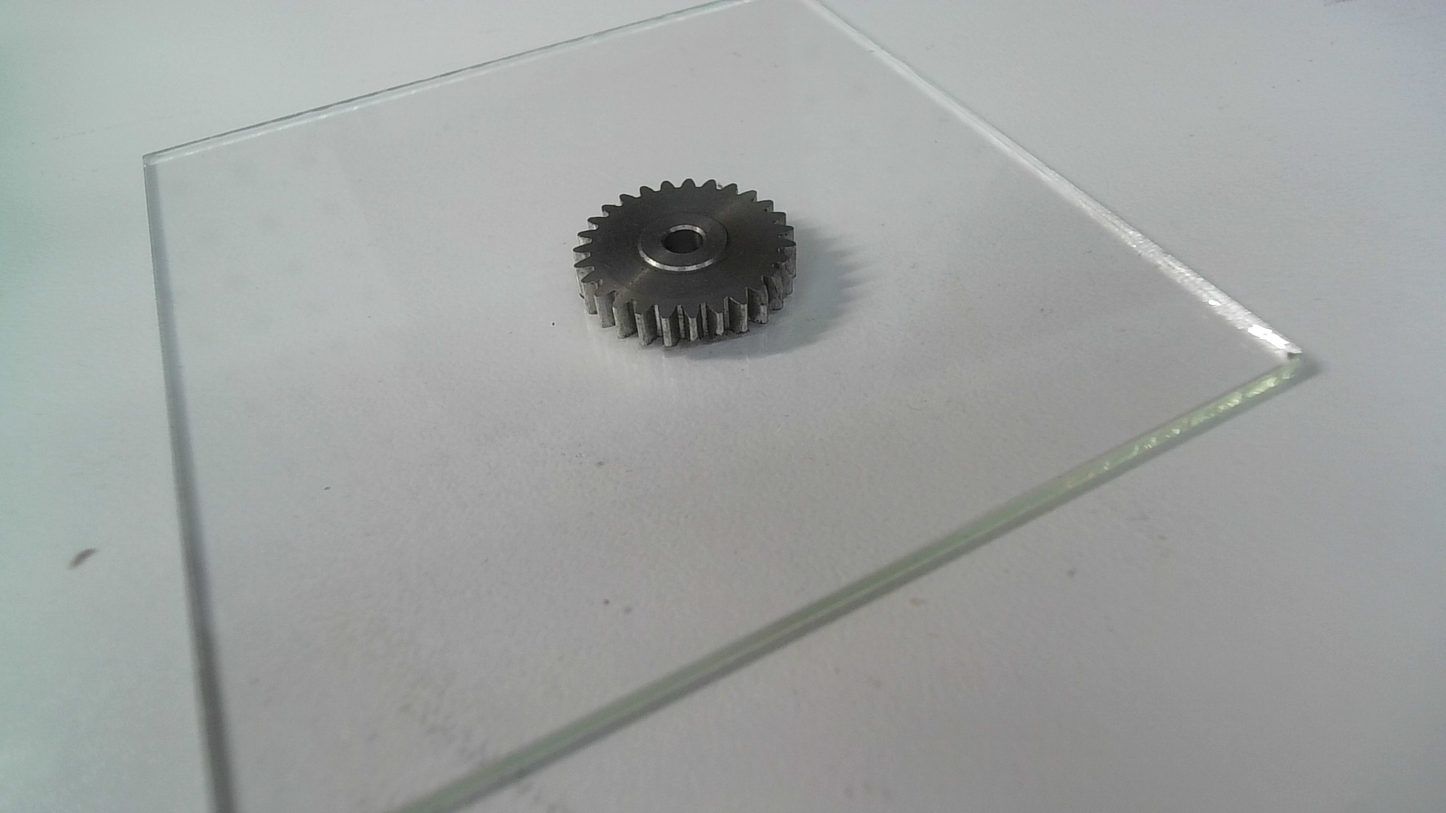gear: (567, 176, 800, 349)
